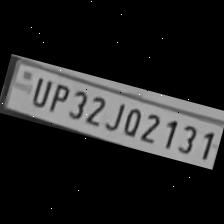1: (193, 124, 221, 162), (155, 113, 182, 152)
2: (136, 108, 165, 147), (82, 90, 108, 128)
3: (172, 119, 200, 157), (64, 85, 90, 122)
J: (100, 96, 126, 135)
P: (43, 78, 71, 116)
Q: (118, 102, 146, 140)
U: (26, 74, 54, 110)
